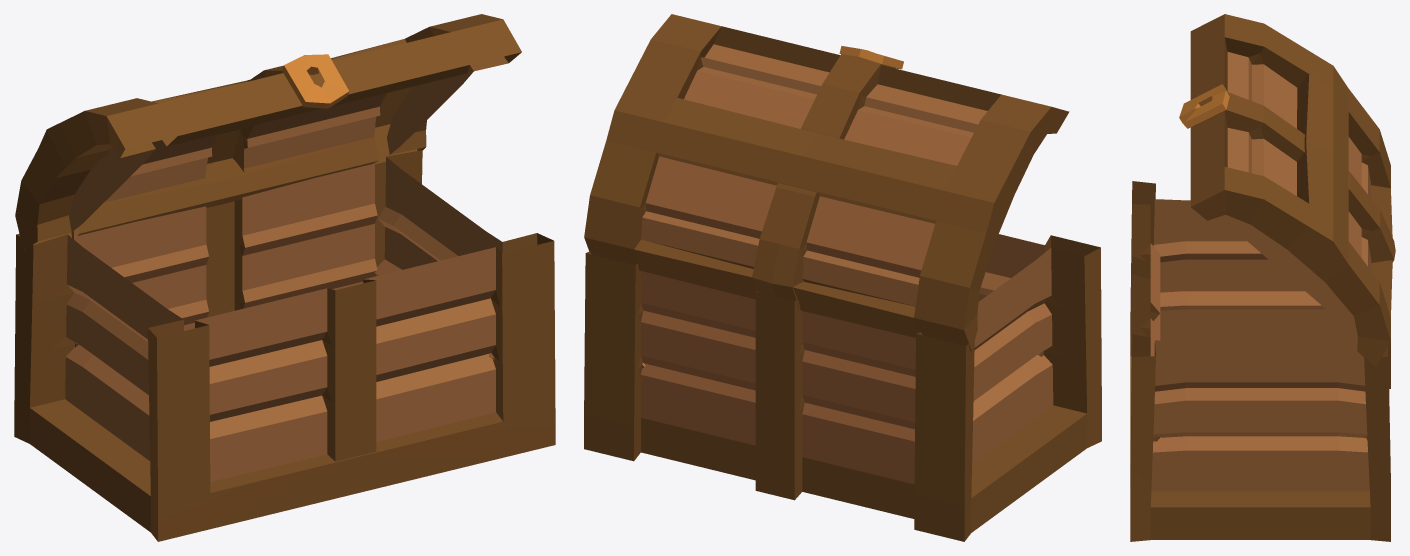
Rendered from FixedChest.fbx.
3 renders of one model, left to right at view 1: azimuth 30°, elevation 25°; view 2: azimuth 150°, elevation 25°; view 3: azimuth 270°, elevation 25°, orthographic. The views are drawn at different scales.
Parts seen in each view (by area): view 1: chest cover.002, chest cover.001; view 2: chest cover.001, chest cover.002; view 3: chest cover.002, chest cover.001.
Boxes of the visible parts, x1=… form: chest cover.002: x1=14, y1=148, x2=555, y2=541; chest cover.001: x1=15, y1=14, x2=521, y2=249; chest cover.001: x1=584, y1=14, x2=1069, y2=351; chest cover.002: x1=584, y1=234, x2=1101, y2=541; chest cover.002: x1=1130, y1=181, x2=1390, y2=541; chest cover.001: x1=1179, y1=14, x2=1395, y2=366.
Size of the model in its own units: 119 by 115 by 75.92.
